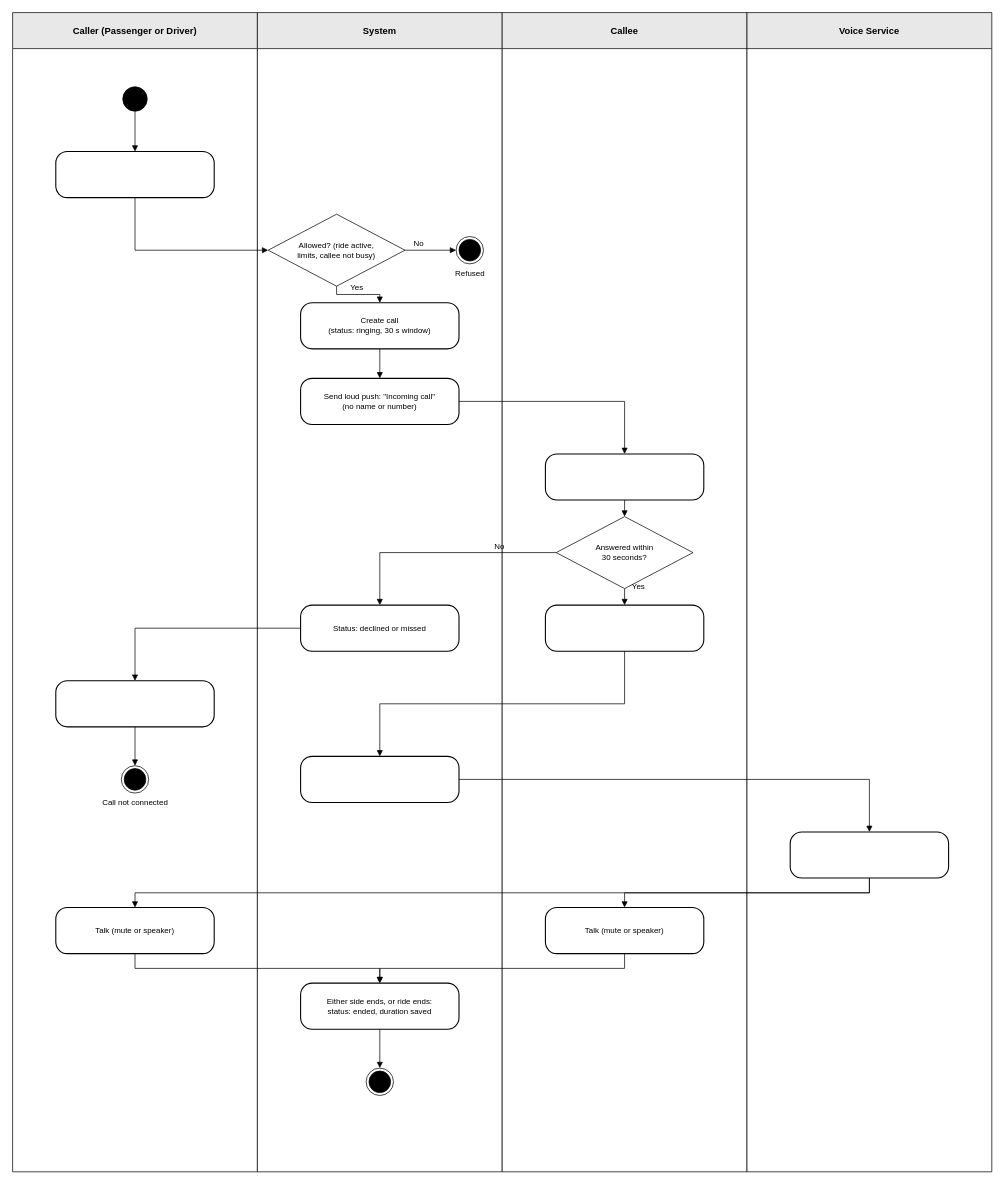
Some shapes in this 1004 by 1184 pixel diagram are drawn without their labels. Each missing label, with the centre of its shape:
"Answer; allow microphone" belongs at (x=624, y=627).
"Call ended" belongs at (x=379, y=1081).
"Caller sees: declined or no answer" belongs at (x=134, y=703).
"Incoming call screen or notification shown" belongs at (x=624, y=476).
"Join audio channel; audio flows both ways" belongs at (x=869, y=854).
"Tap Call on the ride screen" belongs at (x=134, y=174).
"Verify call and ride; issue audio token to both" belongs at (x=379, y=779).
